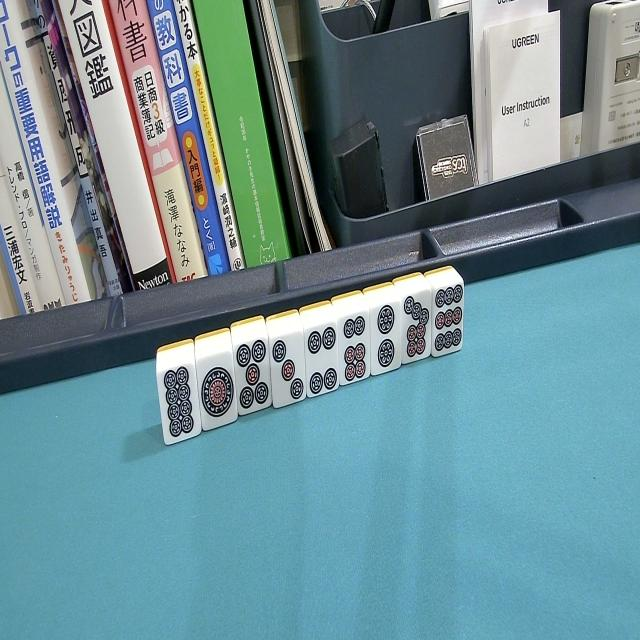1_pin: (194, 323, 240, 437)
2_pin: (363, 281, 407, 381)
3_pin: (265, 310, 311, 416)
4_pin: (300, 302, 344, 406)
5_pin: (228, 314, 276, 424)
6_pin: (332, 288, 374, 394)
7_pin: (396, 269, 436, 374)
8_pin: (153, 342, 203, 453)
9_pin: (427, 265, 468, 364)
